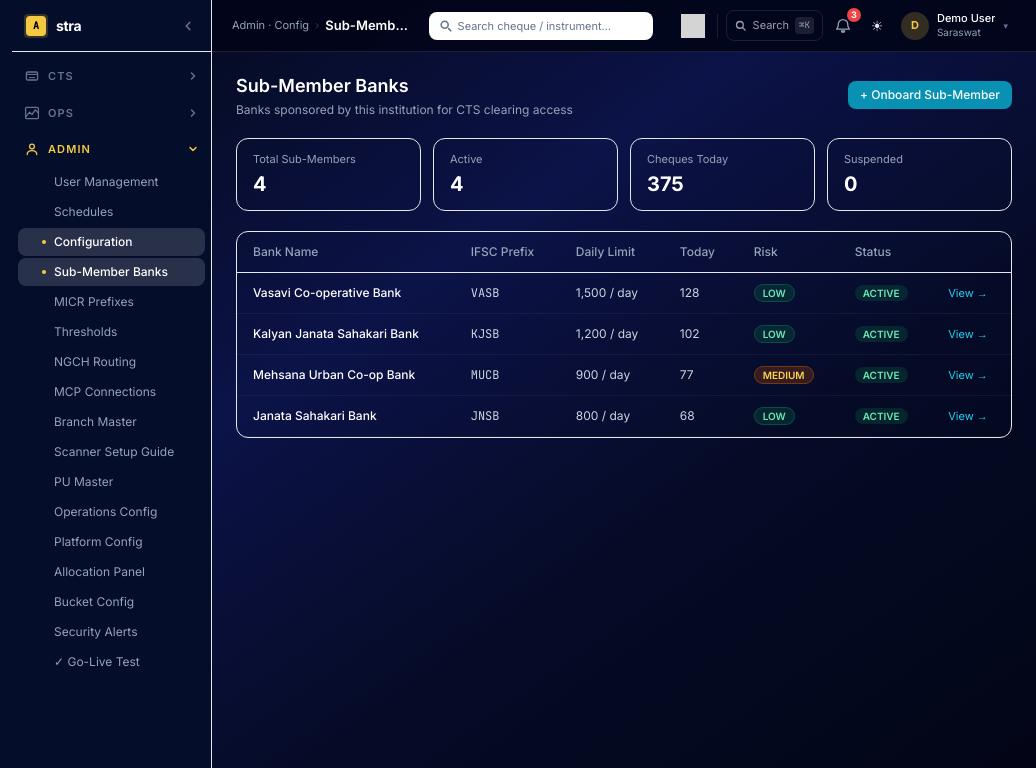
CTSSubMemberBanks › clicking View shows detail panel
The image size is (1036, 768).
What coordinates should you click on to do the following:
click the button "View →" in the row of "Vasavi Co-operative Bank"
I would click on:
 (968, 292)
Its box is 948,284 -> 988,300.
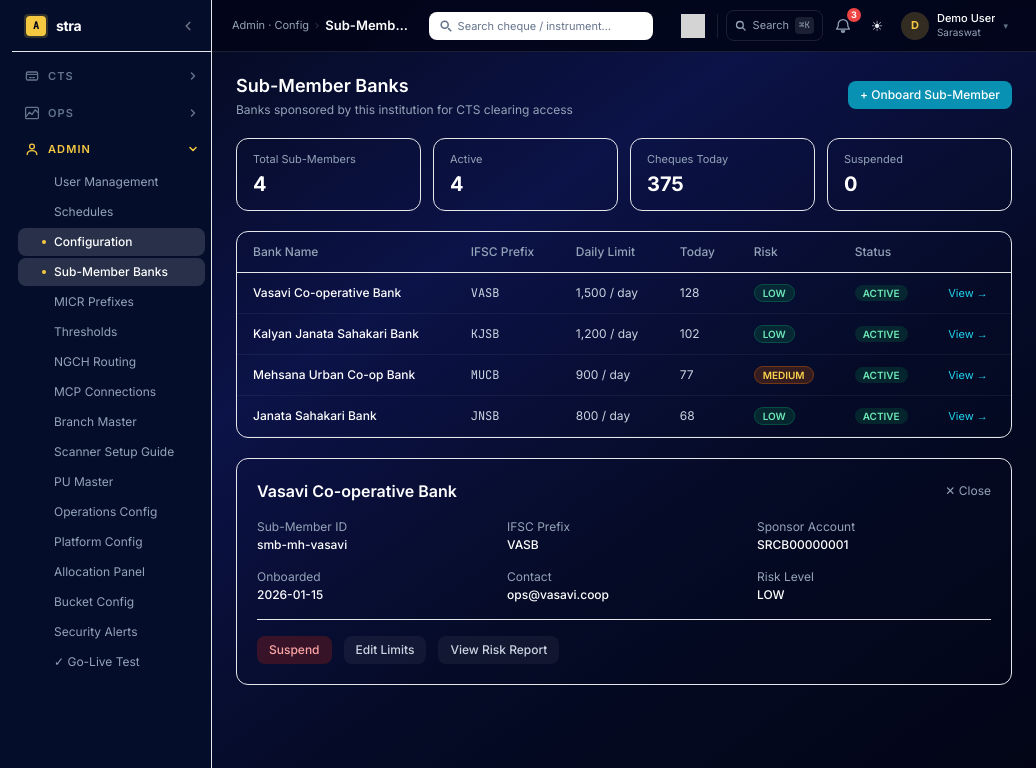
expect the text "Sub-Member ID" is shown: met, box 257,518 -> 347,534
expect the text "Sponsor Account" is shown: met, box 757,518 -> 855,534
